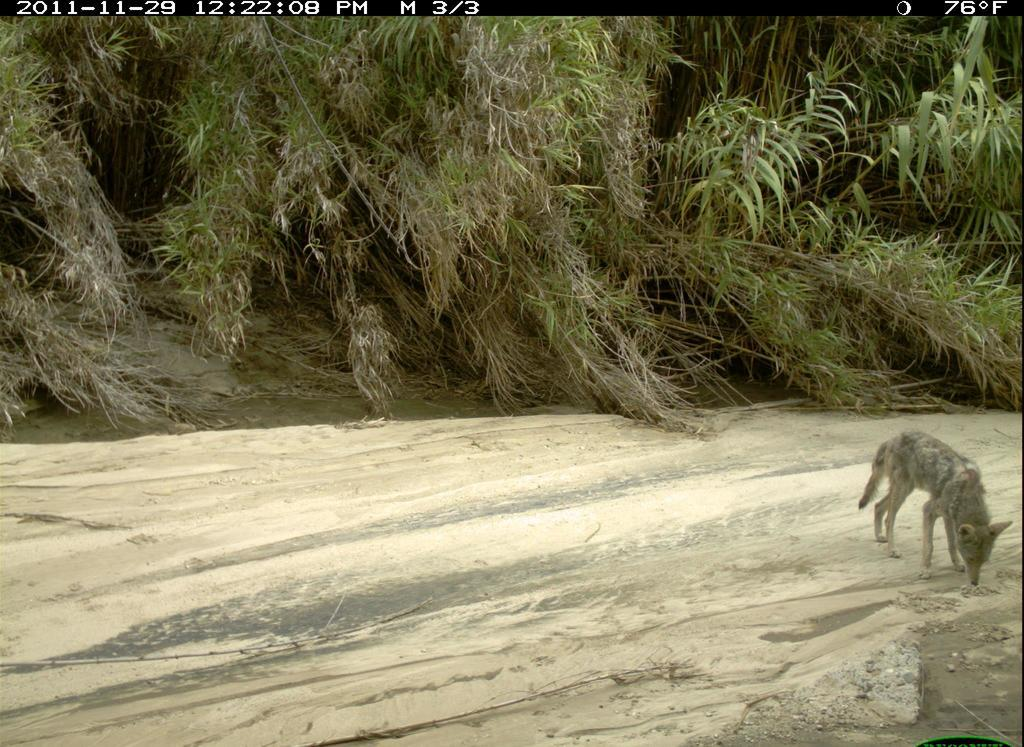coyote: (859, 427, 1014, 591)
